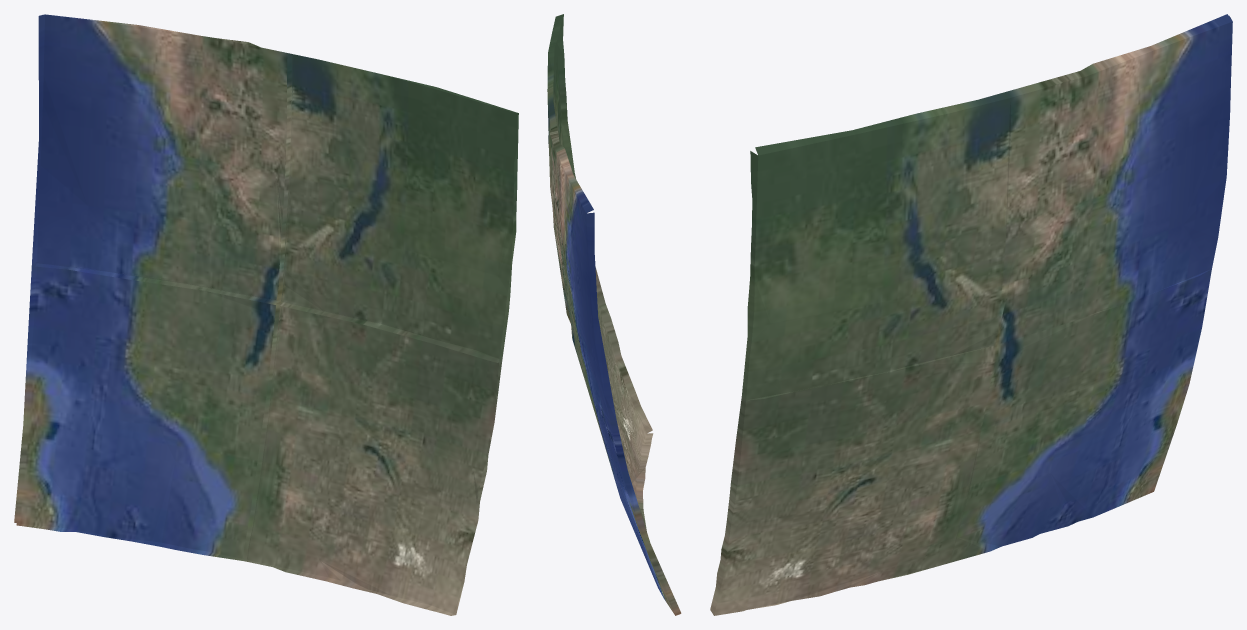
3 renders of one model, left to right at view 1: azimuth 30°, elevation 25°; view 2: azimuth 150°, elevation 25°; view 3: azimuth 270°, elevation 25°, orthographic. The views are drawn at different scales.
Size of the model in its own units: 1762552 by 2456592 by 2283186.
1 material, 1 textured.
